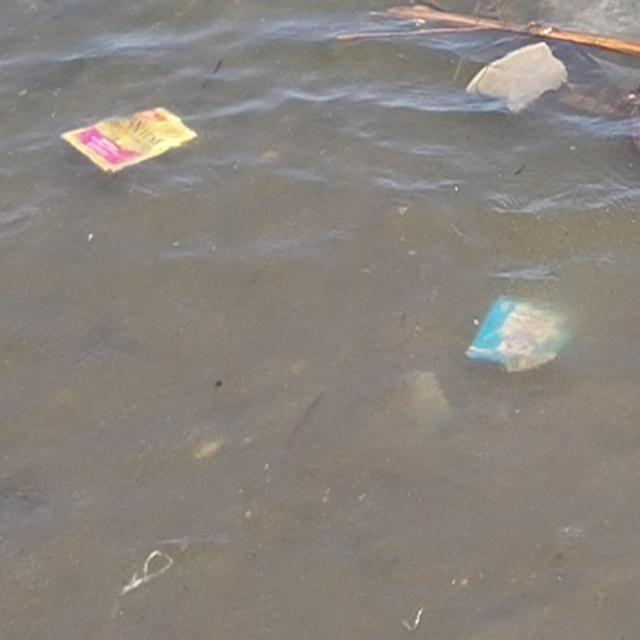litter: (61, 106, 199, 173), (465, 294, 573, 374)
